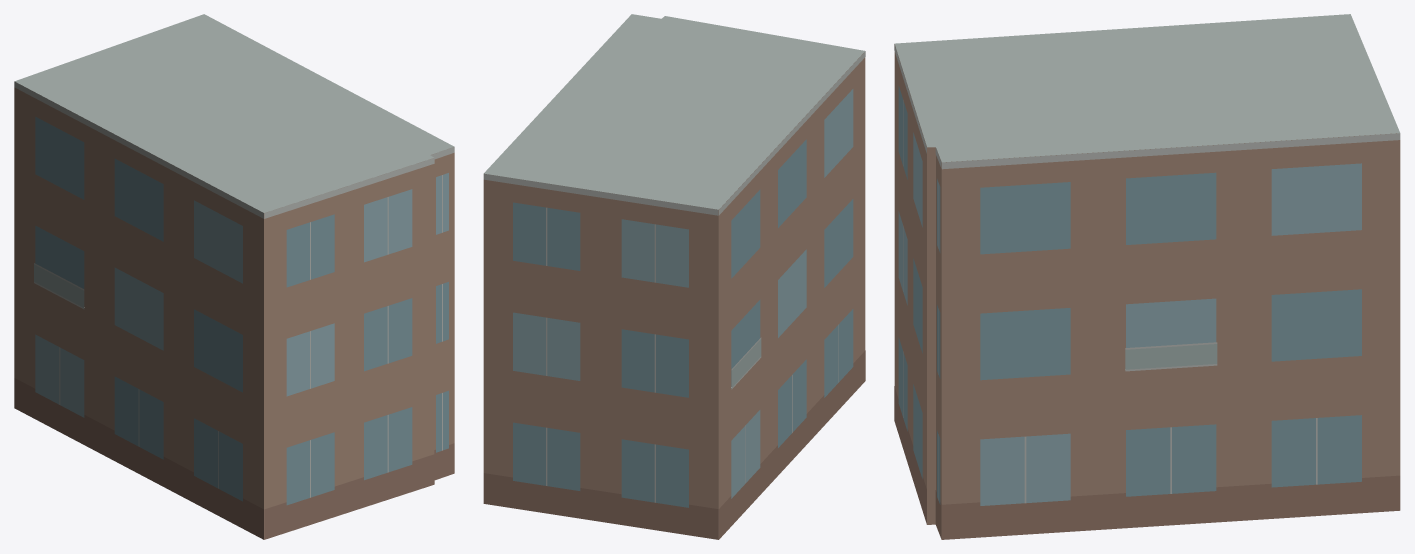
The model's file is survey-upis-32503813.glb.
3 views of the same model, side by side, from view 1: azimuth 30°, elevation 25°; view 2: azimuth 150°, elevation 25°; view 3: azimuth 270°, elevation 25° (orthographic). The views are drawn at different scales.
Visible parts, largest first — view 1: survey-upis-32503813.tmp; view 2: survey-upis-32503813.tmp; view 3: survey-upis-32503813.tmp.
Boxes of the visible parts, <box> form: survey-upis-32503813.tmp: <box>14,14,454,539</box>; survey-upis-32503813.tmp: <box>483,14,865,539</box>; survey-upis-32503813.tmp: <box>894,14,1400,539</box>.
Size of the model in its own units: 11.3 by 13.4 by 16.28.
